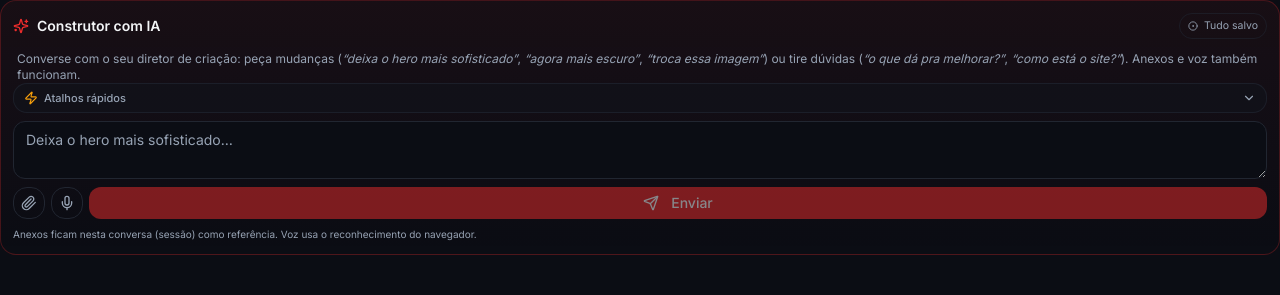
Test: Gravador de voz do chat — só transcreve ao PARAR e UMA vez (silêncio não finaliza) › 12) microfone negado (not-allowed) → mostra aviso e não insere texto
Step 1. Click the button titled "Gravar com voz" → (67, 203), box x1=51 y1=187 x2=83 y2=219
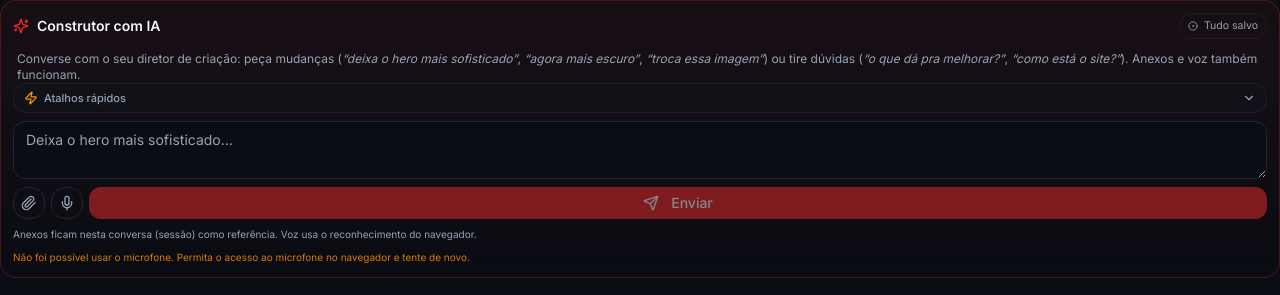
Expected: the text box with placeholder "Deixa o hero mais sofisticado…" is empty, x1=13 y1=121 x2=1267 y2=179
Now the text "Permita o acesso ao microfone" is shown, box x1=13 y1=251 x2=470 y2=263
